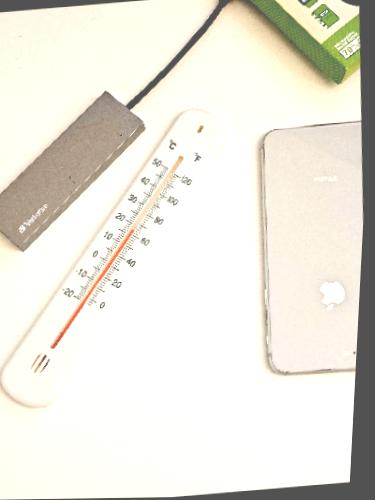thermo: (0, 96, 242, 413)
